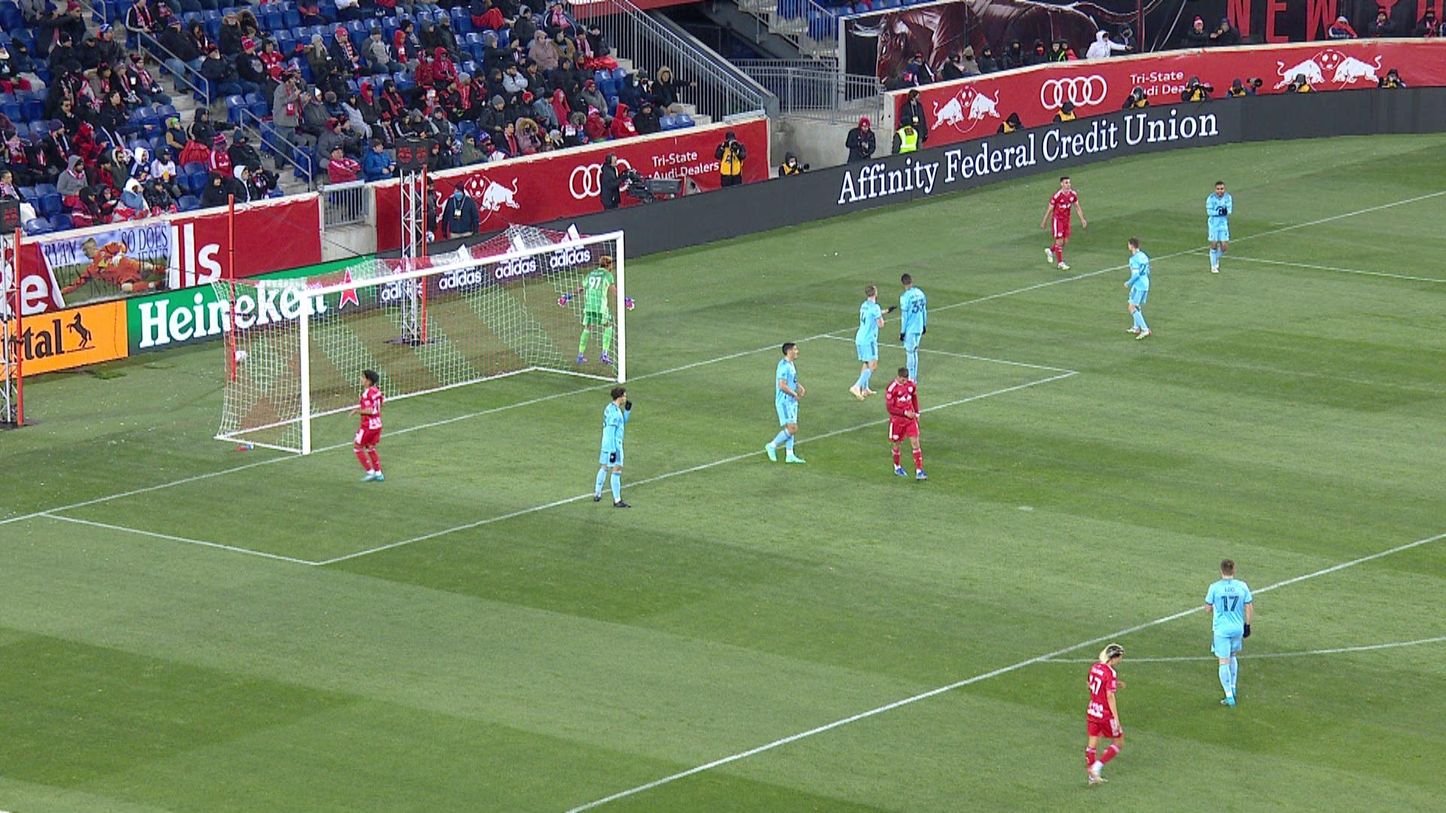Goalkeeper: (558, 257, 635, 365)
Player: (1206, 560, 1252, 705), (1086, 644, 1126, 784), (850, 286, 897, 401), (766, 343, 805, 463), (886, 368, 927, 480), (594, 388, 632, 508), (1042, 177, 1087, 270), (348, 370, 384, 481), (900, 274, 927, 385), (1124, 238, 1151, 339), (1206, 182, 1232, 273)
ball: (234, 350, 249, 364)
